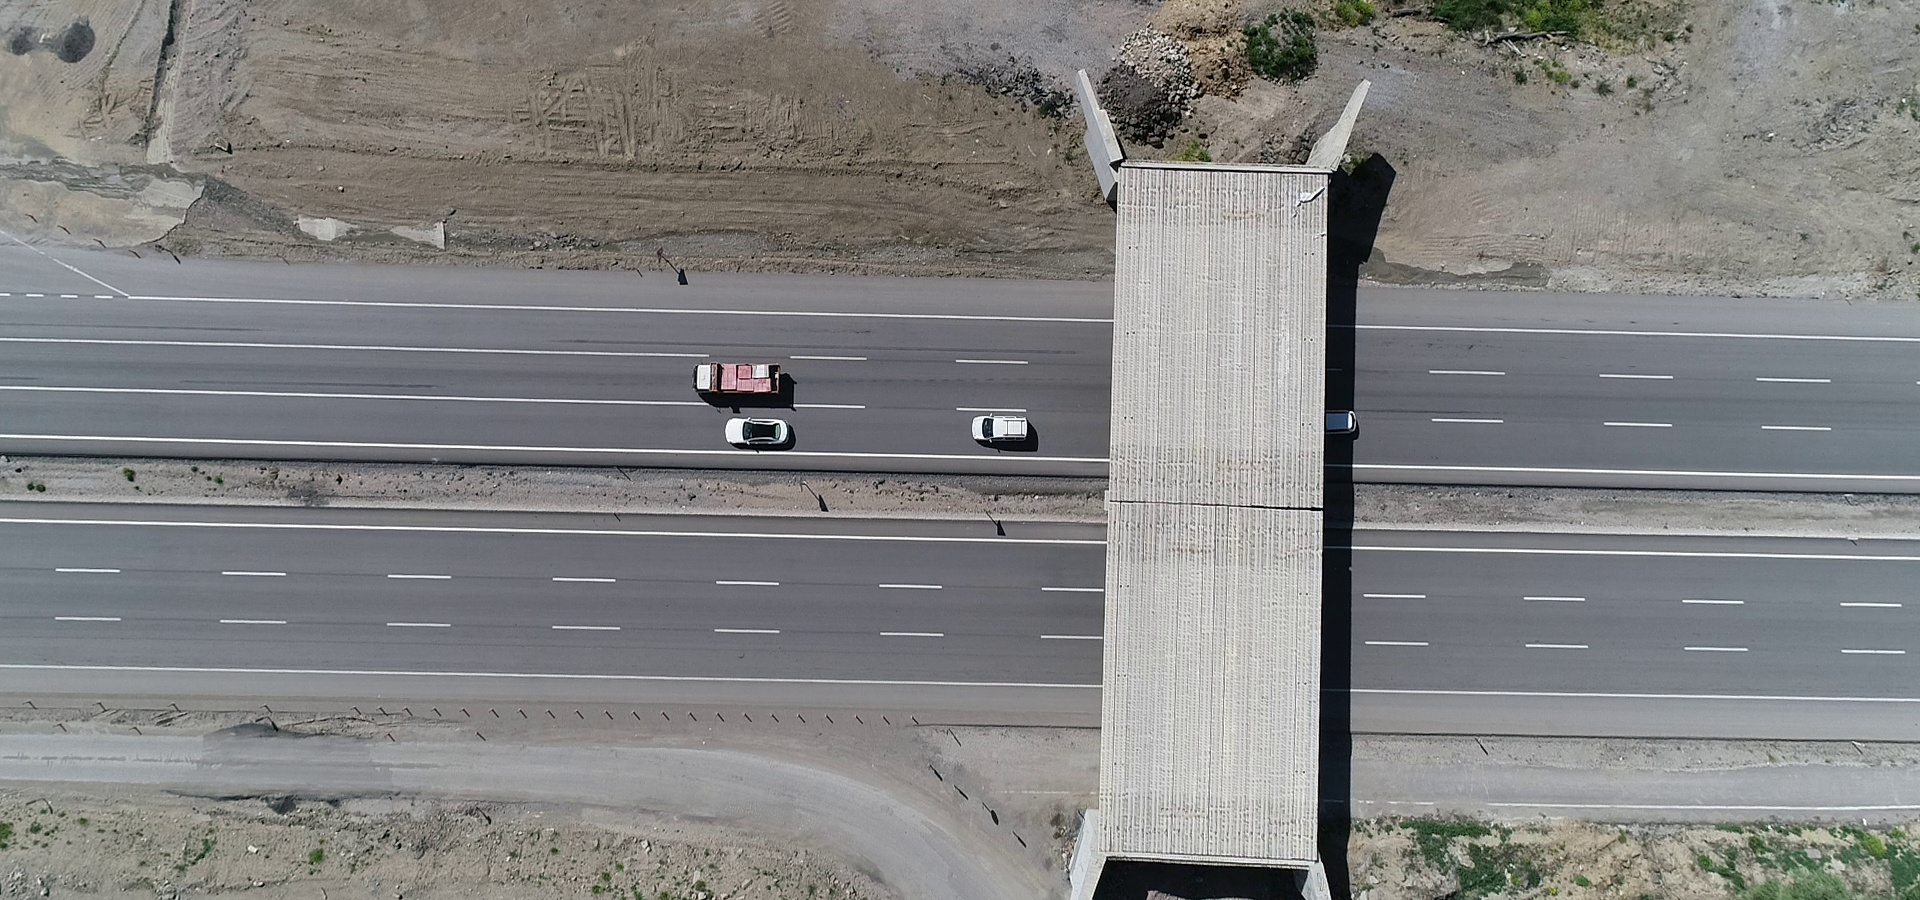araba: (969, 407, 1040, 454), (721, 413, 791, 449), (1318, 402, 1367, 446)
kamyon: (691, 356, 807, 410)
